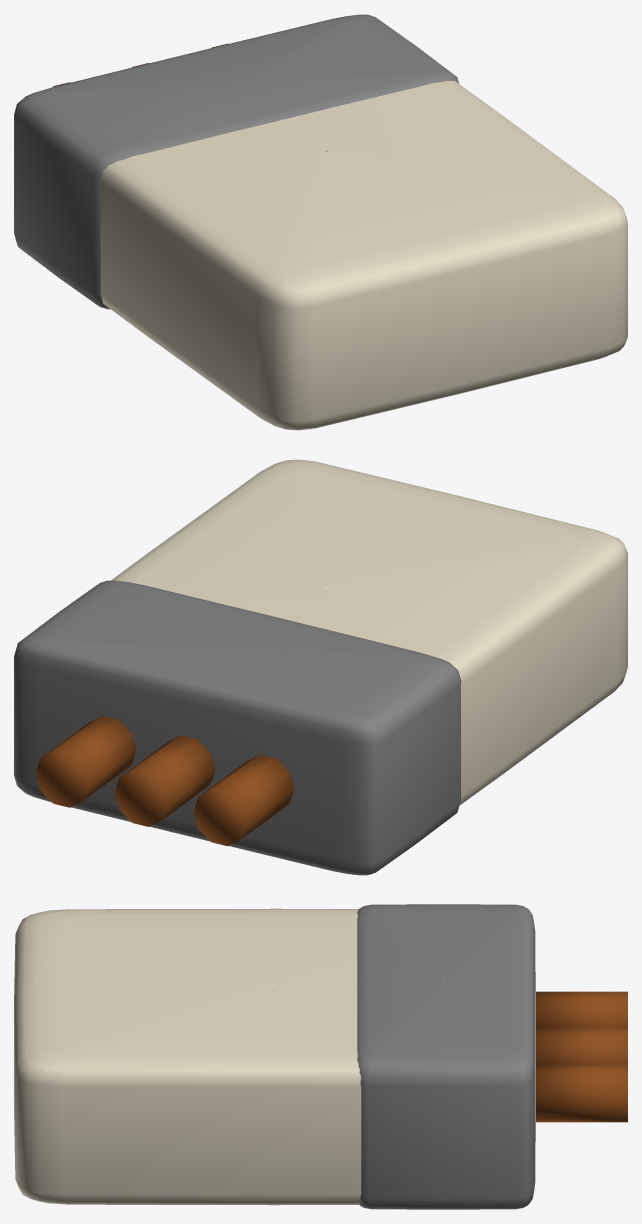
File: cig_pack.glb
3 views of the same model, one above another, from view 1: azimuth 30°, elevation 25°; view 2: azimuth 150°, elevation 25°; view 3: azimuth 270°, elevation 25° (orthographic). The views are drawn at different scales.
Parts seen in each view (by area): view 1: Pack, Band; view 2: Band, Pack, Filters; view 3: Pack, Band, Filters.
Part boxes in pixels (left/top/right/bottom): Pack: left=100, top=81, right=627, bottom=430; Band: left=14, top=14, right=459, bottom=309; Band: left=14, top=580, right=461, bottom=875; Pack: left=111, top=459, right=627, bottom=805; Filters: left=35, top=716, right=294, bottom=846; Pack: left=14, top=908, right=443, bottom=1205; Band: left=357, top=904, right=535, bottom=1209; Filters: left=536, top=991, right=627, bottom=1122.
Bounding box in the file's own units: 0.0559 × 0.023 × 0.0849.
